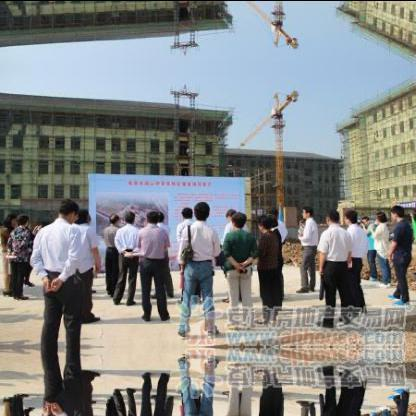No Helmet: (55, 197, 79, 223), (191, 196, 210, 219), (230, 209, 246, 228), (388, 203, 404, 221), (322, 206, 338, 224), (178, 204, 192, 222), (299, 200, 313, 218), (342, 208, 356, 224), (266, 209, 278, 227), (144, 209, 158, 224), (372, 208, 386, 223), (78, 205, 89, 223), (107, 208, 119, 224), (256, 212, 268, 228), (16, 208, 28, 224), (122, 208, 134, 223), (156, 206, 166, 221)
